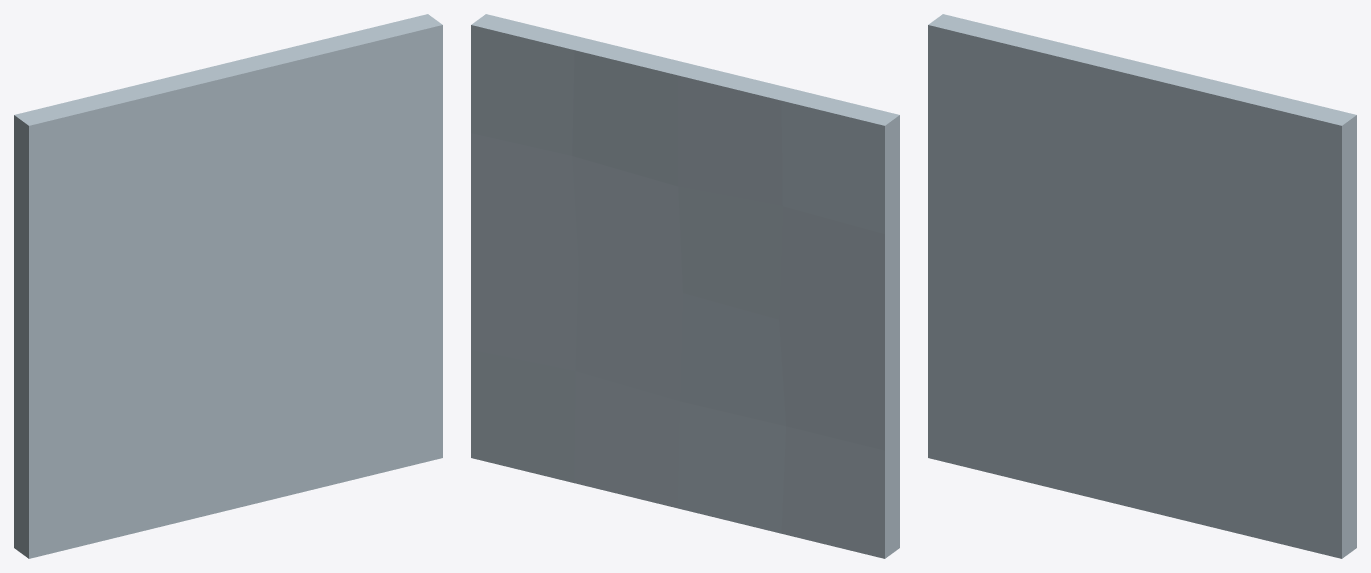
The model's file is Ice.fbx.
3 views of the same model, side by side, from view 1: azimuth 30°, elevation 25°; view 2: azimuth 150°, elevation 25°; view 3: azimuth 330°, elevation 25° (orthographic).
Parts seen in each view (by area): view 1: Ice; view 2: Ice; view 3: Ice.
Boxes of the visible parts, bbox=[...] form: Ice: bbox=[14, 14, 442, 558]; Ice: bbox=[471, 14, 899, 558]; Ice: bbox=[928, 14, 1356, 558].
Bounding box in the file's own units: 0.96 × 0.96 × 0.0604.
